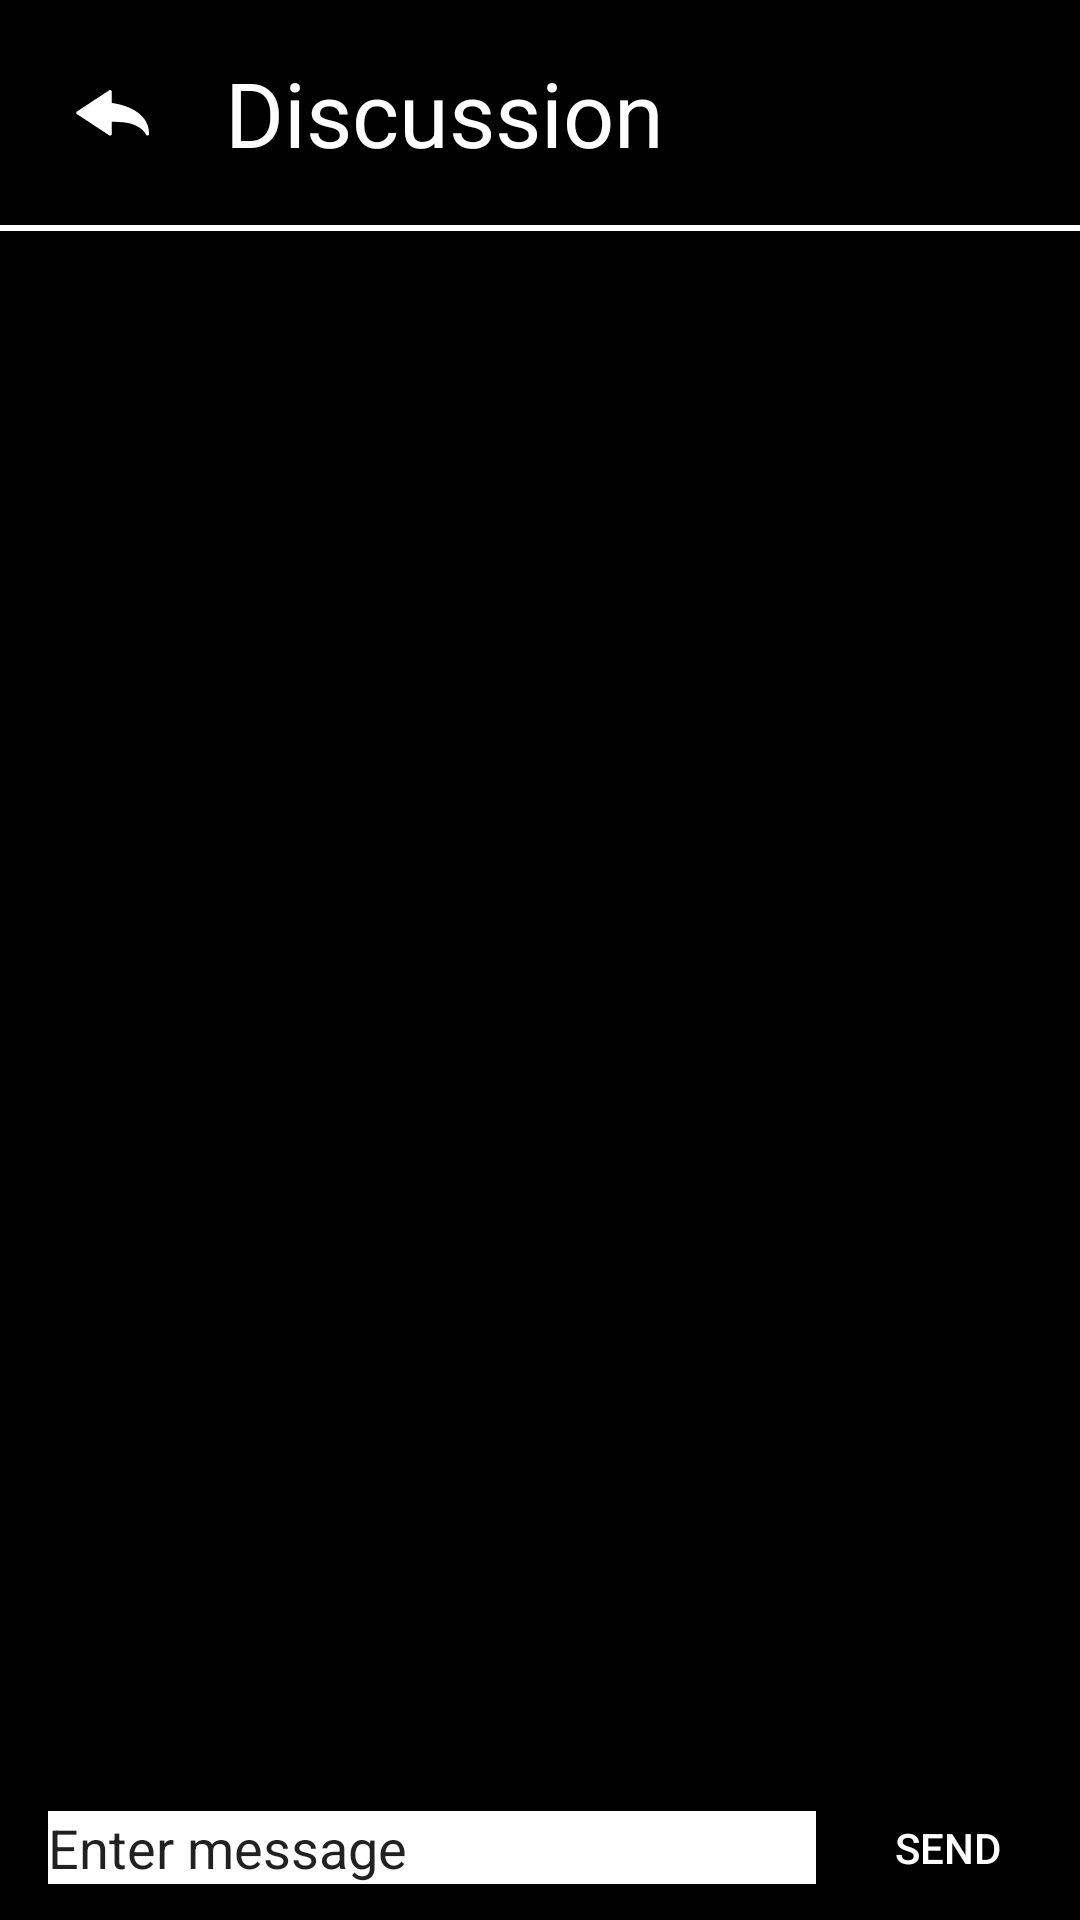

Named icons in this screenshot (1080px×1920px) and their centers, [x,y]:
back arrow: [112,113]
